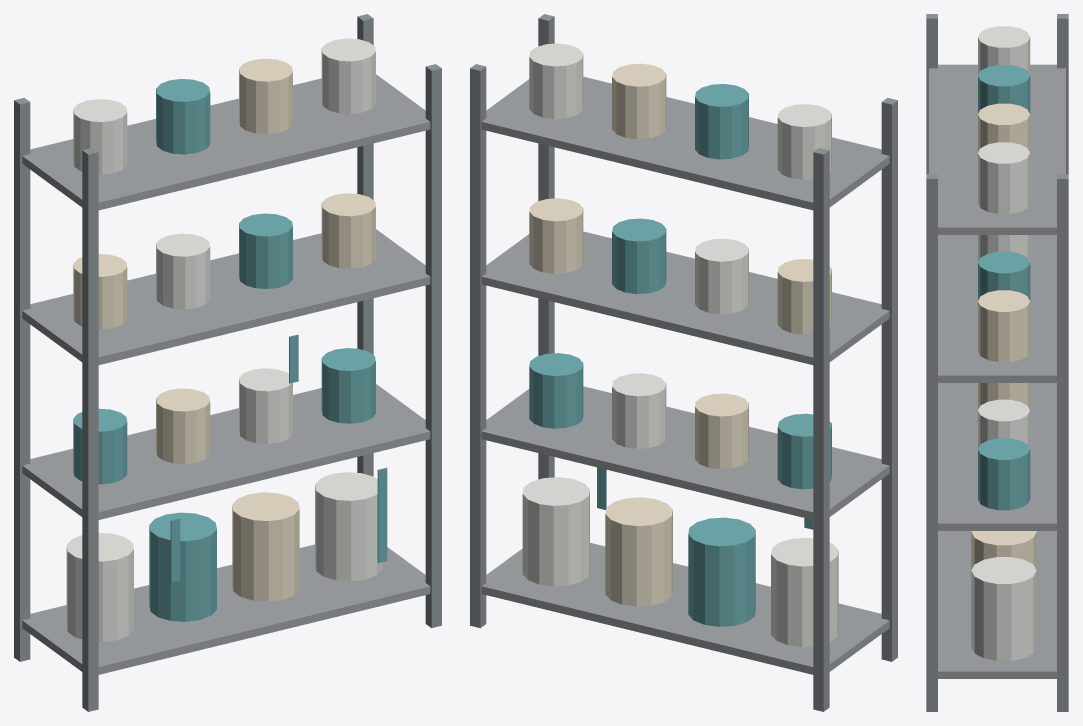
File: standin_paint_shelf.glb
3 views of the same model, side by side, from view 1: azimuth 30°, elevation 25°; view 2: azimuth 150°, elevation 25°; view 3: azimuth 270°, elevation 25° (orthographic). The views are drawn at different scales.
Parts seen in each view (by area): view 1: standin_paint_shelf; view 2: standin_paint_shelf; view 3: standin_paint_shelf.
Part boxes in pixels (x1,y1,x2,y2): standin_paint_shelf: [14, 14, 441, 711]; standin_paint_shelf: [470, 14, 897, 711]; standin_paint_shelf: [926, 14, 1068, 711].
Bounding box in the file's own units: 1.19 × 1.81 × 0.435.
